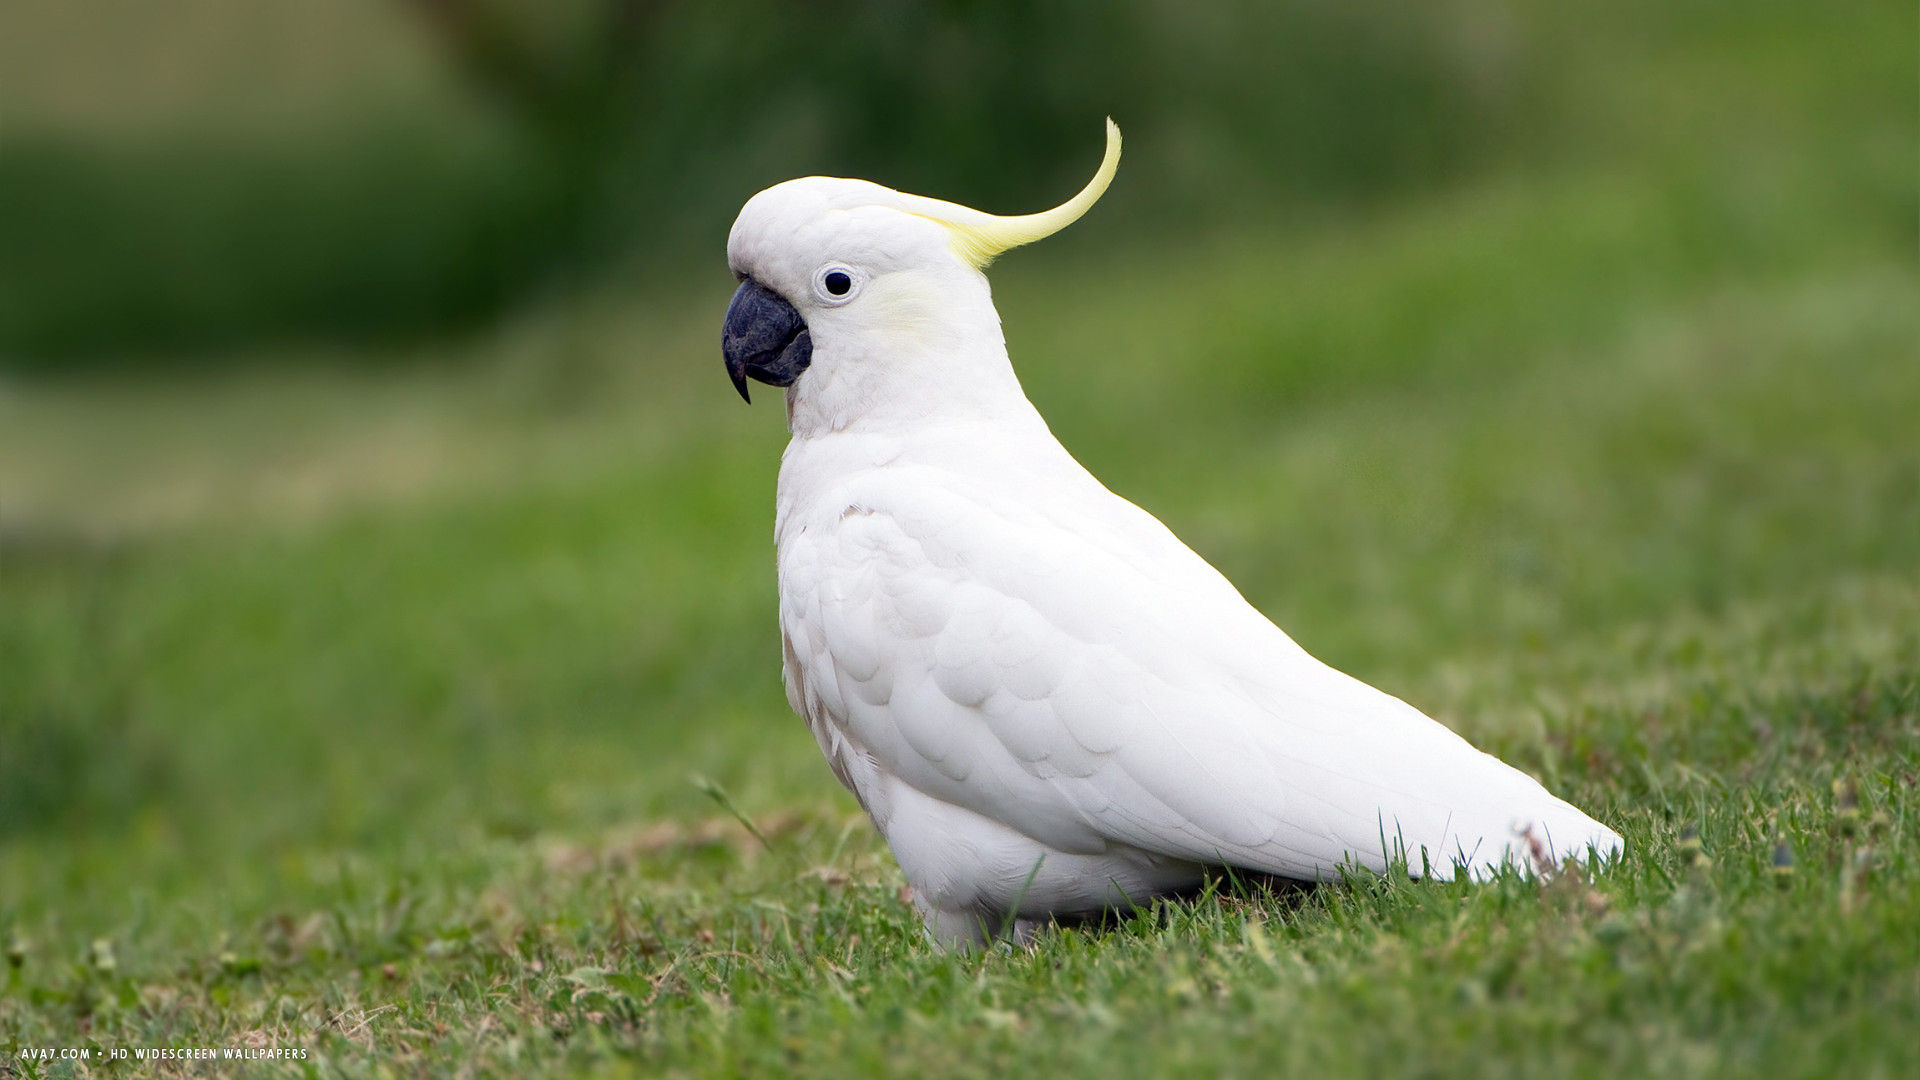bird: (676, 83, 1673, 967)
